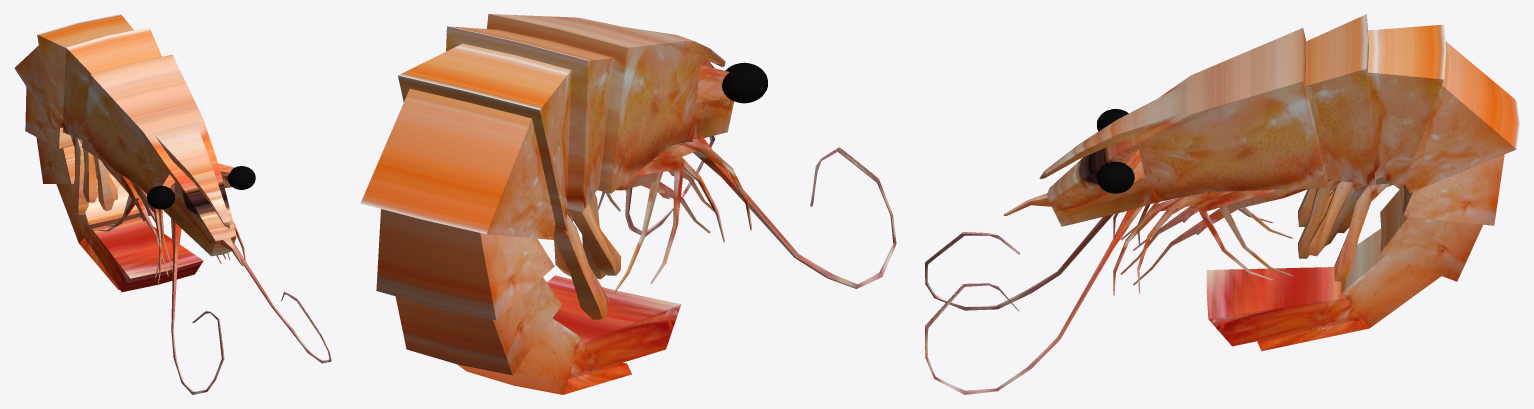
The model's file is shrimp.glb.
The picture shows the model from 3 angles, left to right: view 1: azimuth 30°, elevation 25°; view 2: azimuth 150°, elevation 25°; view 3: azimuth 270°, elevation 25°; orthographic projection. The views are drawn at different scales.
Parts seen in each view (by area): view 1: shrimp_0; view 2: shrimp_0; view 3: shrimp_0.
Boxes of the visible parts, x1,y1,x2,y2 form: shrimp_0: (14,14,331,394); shrimp_0: (360,14,896,394); shrimp_0: (925,14,1519,394).
Size of the model in its own units: 1.57 by 2.68 by 4.62.
2 materials, 1 textured.
